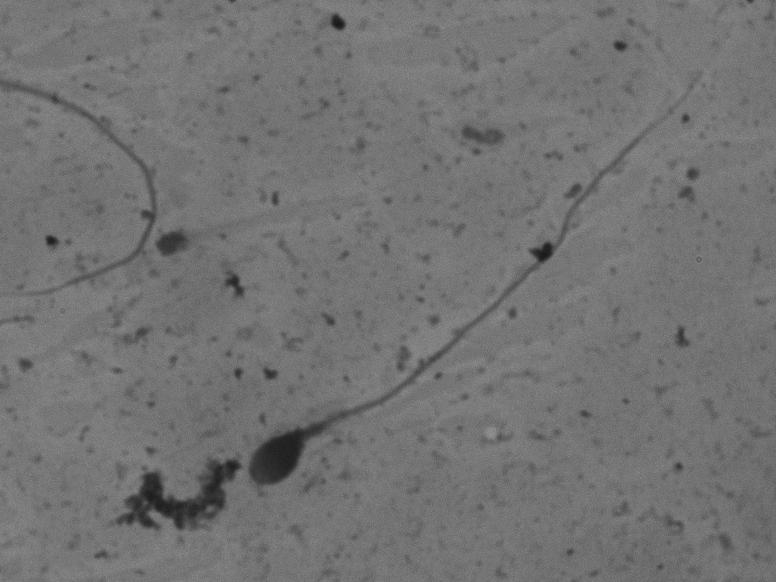Abnormal: (237, 33, 737, 533)
